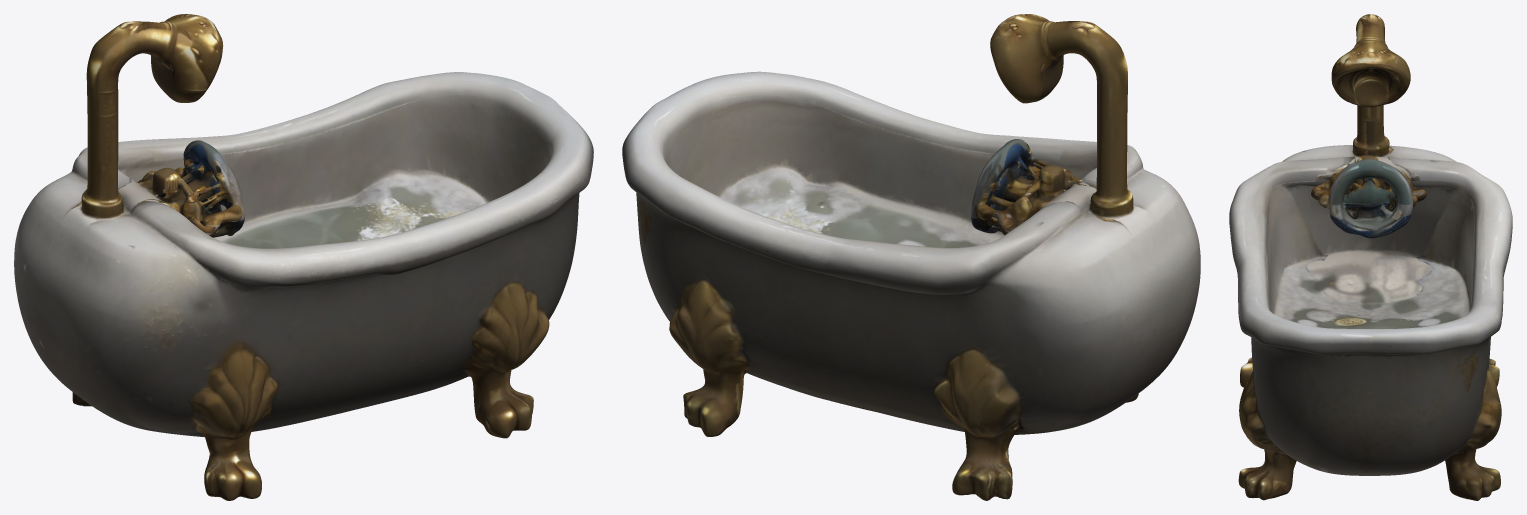
The model's file is Meshy_AI_Gilded_Bath_0330161619_texture.glb.
3 views of the same model, side by side, from view 1: azimuth 30°, elevation 25°; view 2: azimuth 150°, elevation 25°; view 3: azimuth 270°, elevation 25° (orthographic). The views are drawn at different scales.
Size of the model in its own units: 2.01 by 1.62 by 1.18.
Materials: 1 (1 with a texture image).
